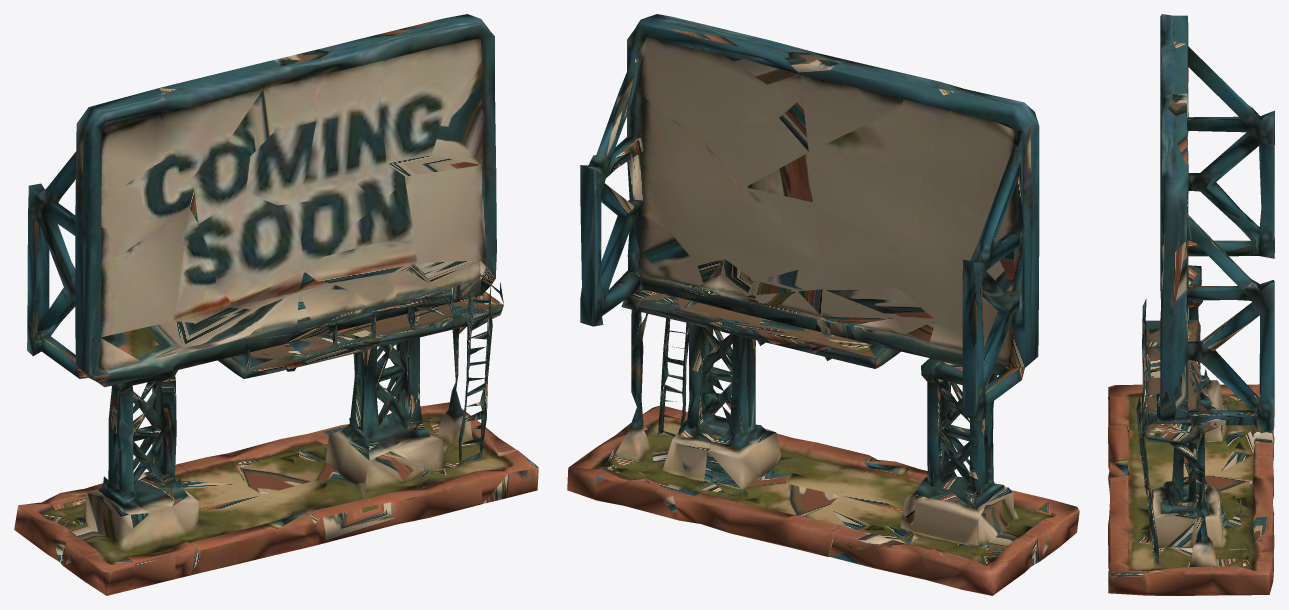
Rendered from hoarding.glb.
3 renders of one model, left to right at view 1: azimuth 30°, elevation 25°; view 2: azimuth 150°, elevation 25°; view 3: azimuth 270°, elevation 25°, orthographic. The views are drawn at different scales.
Parts seen in each view (by area): view 1: tripo_node_290ab4e0-92a6-4763-85d6-f0bc3e8c0977; view 2: tripo_node_290ab4e0-92a6-4763-85d6-f0bc3e8c0977; view 3: tripo_node_290ab4e0-92a6-4763-85d6-f0bc3e8c0977.
Boxes of the visible parts, x1,y1,x2,y2 form: tripo_node_290ab4e0-92a6-4763-85d6-f0bc3e8c0977: [14, 14, 538, 595]; tripo_node_290ab4e0-92a6-4763-85d6-f0bc3e8c0977: [567, 14, 1079, 595]; tripo_node_290ab4e0-92a6-4763-85d6-f0bc3e8c0977: [1108, 14, 1274, 595].
Size of the model in its own units: 0.9781 by 0.9712 by 0.3618.
1 material, 1 textured.
